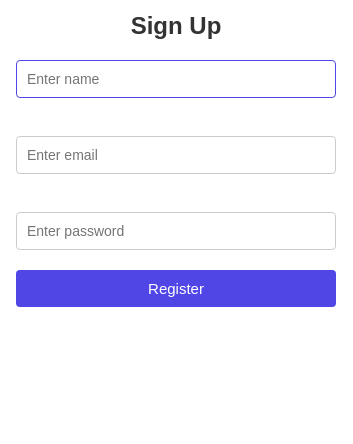
SignUp Component › shows error messages when fields are empty
The width and height of the screenshot is (353, 444).
Click the button "Register" at (176, 288), box [16, 270, 336, 307]
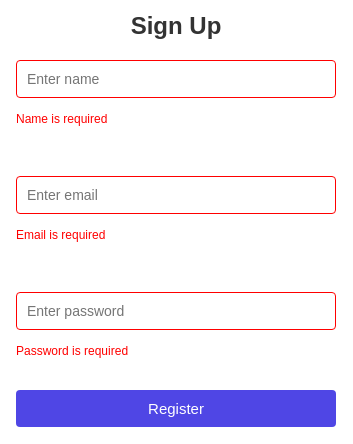
Result: the text "Name is required" is shown at [16, 112, 107, 126]
Result: the text "Email is required" is shown at [16, 228, 105, 242]
Result: the text "Password is required" is shown at [16, 344, 128, 358]
